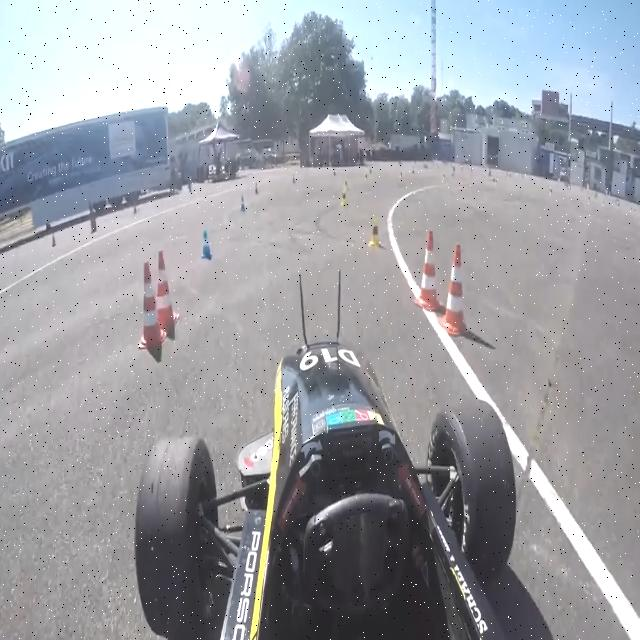blue_cone: (200, 228, 213, 260), (239, 192, 247, 214)
large_orange_cone: (438, 238, 470, 340), (136, 258, 168, 352), (151, 246, 182, 338), (414, 223, 442, 321)
yellow_cone: (368, 214, 381, 250), (340, 190, 348, 208)
